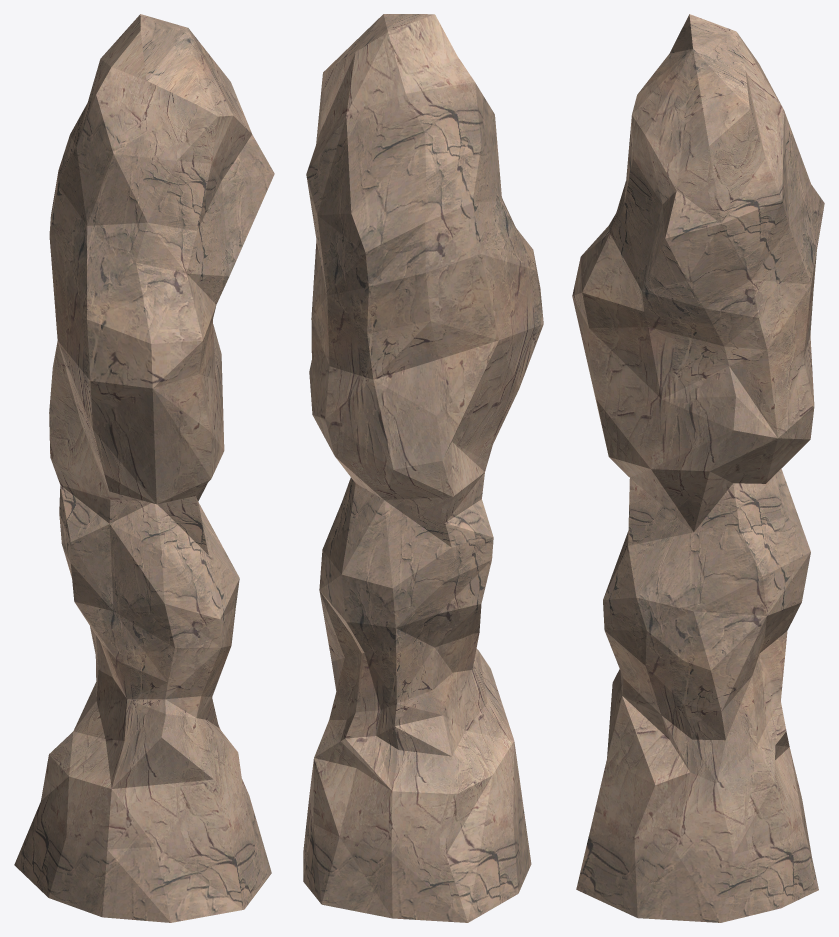
Rendered from rock_tatt_spire_smooth_a2_l0.fbx.
3 views of the same model, side by side, from view 1: azimuth 30°, elevation 25°; view 2: azimuth 150°, elevation 25°; view 3: azimuth 270°, elevation 25° (orthographic).
Parts seen in each view (by area): view 1: mesh_node; view 2: mesh_node; view 3: mesh_node.
Boxes of the visible parts, x1,y1,x2,y2 form: mesh_node: (14,14,274,922); mesh_node: (303,14,543,922); mesh_node: (572,14,824,922).
Bounding box in the file's own units: 17.19 × 66.58 × 17.87.
